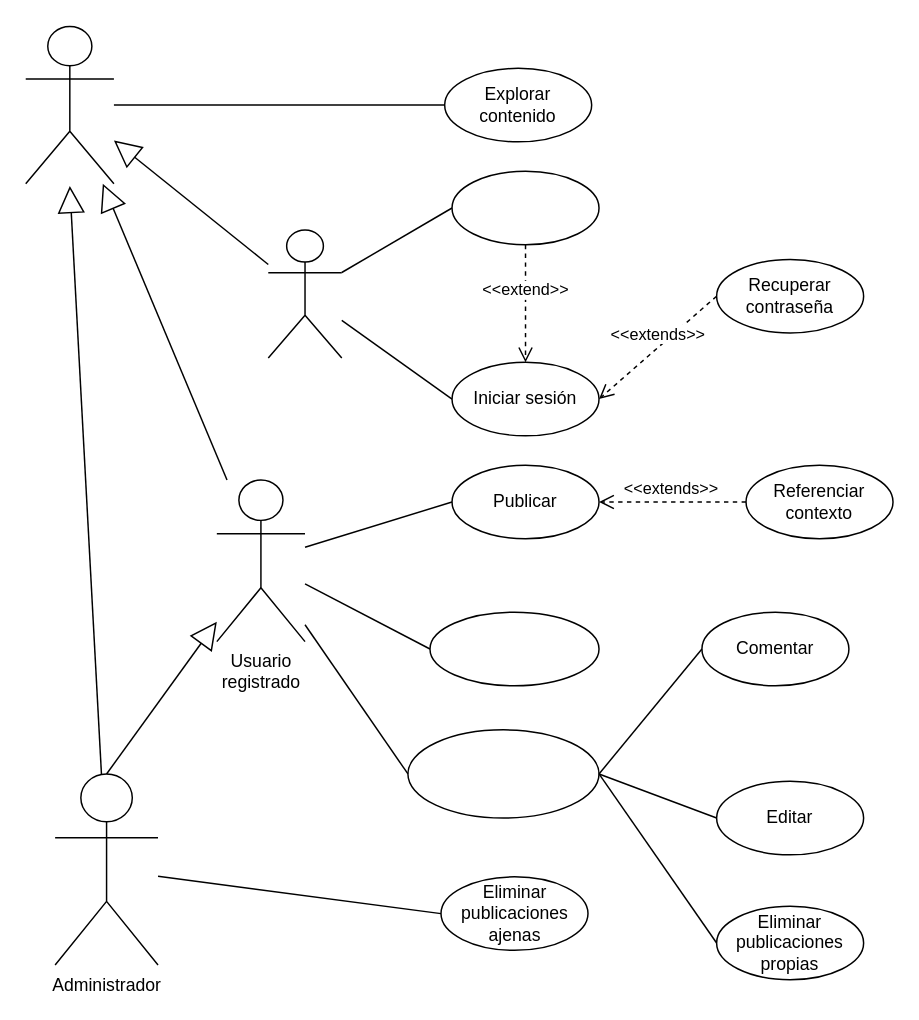
The diagram is 919 pixels wide and 1020 high, and some of its shapes have lost their labels. Here are the shapes that lost their labels. From the top down, the centre of each, then its label:
At [69,104]: "Usuario".
At [525,207]: "Registrarse".
At [304,293]: "Usuario no registrado".
At [514,648]: "Gestionar perfil".
At [502,773]: "Interactuar con las publicaciones".
